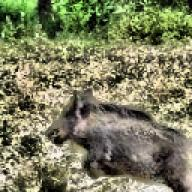boar: (45, 87, 192, 192)
